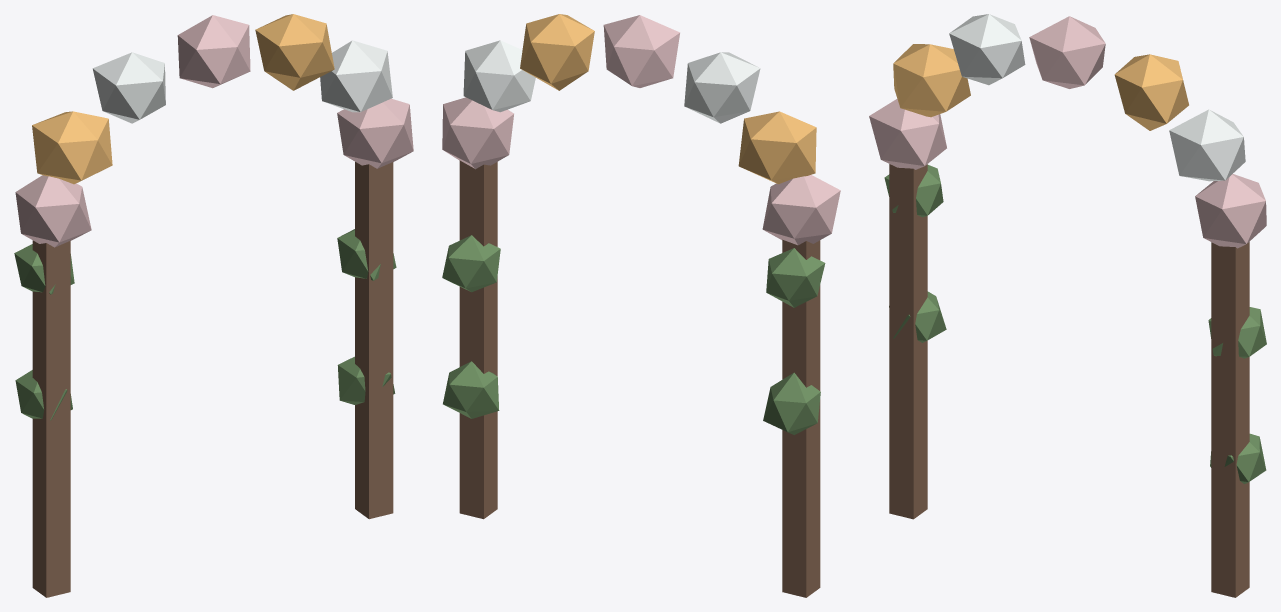
File: wedding_arch.glb
The picture shows the model from 3 angles, left to right: view 1: azimuth 30°, elevation 25°; view 2: azimuth 150°, elevation 25°; view 3: azimuth 330°, elevation 25°; orthographic projection.
Parts seen in each view (by area): view 1: post1, post-1, bloom5, bloom2, bloom3, bloom6, bloom0, bloom1, bloom4, detail_leaf2, detail_leaf3, detail_leaf0 (+1 smaller); view 2: post-1, post1, bloom5, bloom3, bloom2, bloom6, bloom4, bloom0, bloom1, detail_leaf3, detail_leaf1, detail_leaf2 (+1 smaller); view 3: post-1, post1, bloom5, bloom1, bloom2, bloom0, bloom3, bloom4, bloom6, detail_leaf2, detail_leaf3, detail_leaf1 (+1 smaller).
Boxes of the visible parts, <box> form: post1: <box>355,162,393,519</box>; post-1: <box>32,240,70,597</box>; bloom5: <box>32,111,112,184</box>; bloom2: <box>255,14,334,90</box>; bloom3: <box>177,15,250,88</box>; bloom6: <box>15,175,91,247</box>; bloom0: <box>337,98,413,168</box>; bloom1: <box>320,40,392,112</box>; bloom4: <box>92,52,165,123</box>; detail_leaf2: <box>337,229,396,280</box>; detail_leaf3: <box>14,244,74,294</box>; detail_leaf0: <box>337,356,395,404</box>; post-1: <box>782,239,820,597</box>; post1: <box>459,160,497,519</box>; bloom5: <box>738,111,816,184</box>; bloom3: <box>603,15,679,87</box>; bloom2: <box>520,14,594,90</box>; bloom6: <box>762,175,840,245</box>; bloom4: <box>684,52,760,123</box>; bloom0: <box>442,97,513,169</box>; bloom1: <box>463,40,535,112</box>; detail_leaf3: <box>766,248,825,307</box>; detail_leaf1: <box>763,372,820,434</box>; detail_leaf2: <box>442,235,500,292</box>; post-1: <box>889,164,927,519</box>; post1: <box>1211,242,1249,597</box>; bloom5: <box>893,44,970,117</box>; bloom1: <box>1169,109,1245,181</box>; bloom2: <box>1114,54,1188,130</box>; bloom0: <box>1195,174,1266,248</box>; bloom3: <box>1029,16,1105,88</box>; bloom4: <box>949,14,1025,85</box>; bloom6: <box>869,99,946,169</box>; detail_leaf2: <box>1208,307,1266,358</box>; detail_leaf3: <box>884,165,943,217</box>; detail_leaf1: <box>889,291,946,342</box>.
Bounding box in the file's own units: 0.9643 × 1.27 × 0.1783.
